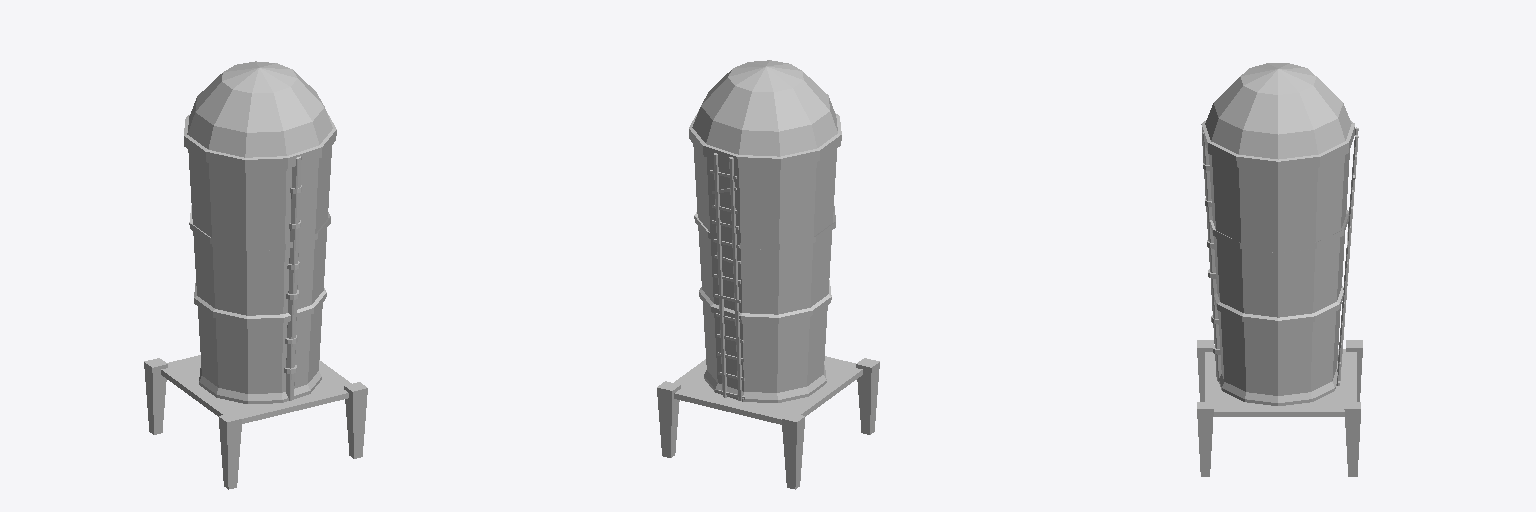
File: soil.obj
3 views of the same model, side by side, from view 1: azimuth 30°, elevation 25°; view 2: azimuth 150°, elevation 25°; view 3: azimuth 270°, elevation 25° (orthographic).
Visible parts, largest first — view 1: pCube610; view 2: pCube610; view 3: pCube610.
Boxes of the visible parts, x1,y1,x2,y2 form: pCube610: [144, 61, 367, 489]; pCube610: [657, 60, 879, 489]; pCube610: [1197, 63, 1362, 476].
Size of the model in its own units: 4.9 by 12.51 by 5.